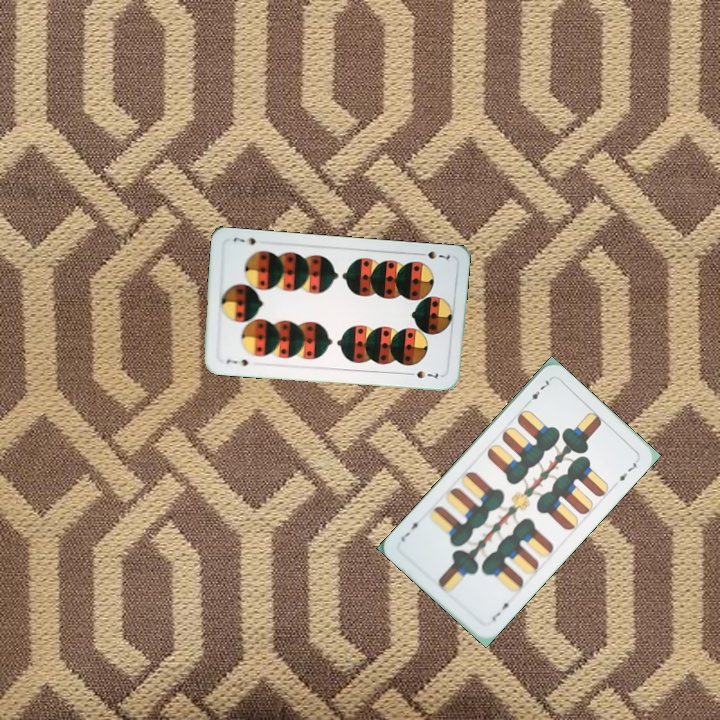E7: (522, 375, 554, 408), (488, 596, 515, 623)
S7: (414, 247, 452, 262), (223, 355, 250, 369)
